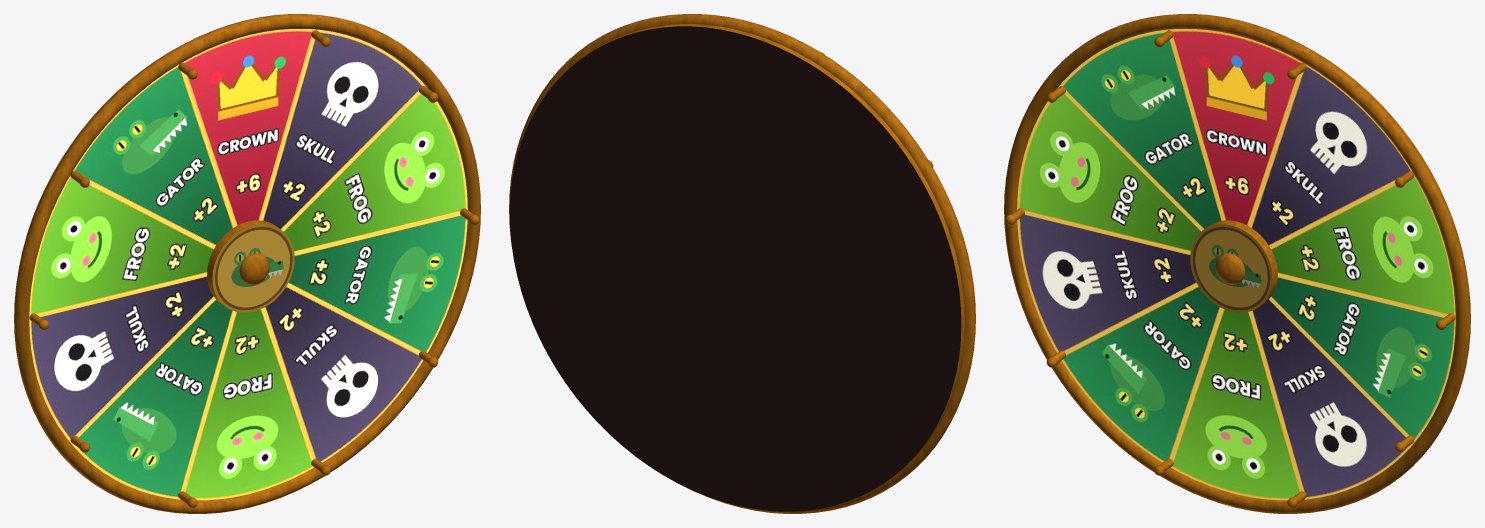
Rendered from wheel-spin.glb.
The picture shows the model from 3 angles, left to right: view 1: azimuth 30°, elevation 25°; view 2: azimuth 150°, elevation 25°; view 3: azimuth 330°, elevation 25°; orthographic projection.
Visible parts, largest first — view 1: wheel-spin; view 2: wheel-spin; view 3: wheel-spin.
Boxes of the visible parts, <box> form: wheel-spin: <box>14,14,480,513</box>; wheel-spin: <box>509,14,975,513</box>; wheel-spin: <box>1004,14,1470,513</box>.
Size of the model in its own units: 7 by 7 by 0.55.
Materials: 4 (3 with a texture image).
